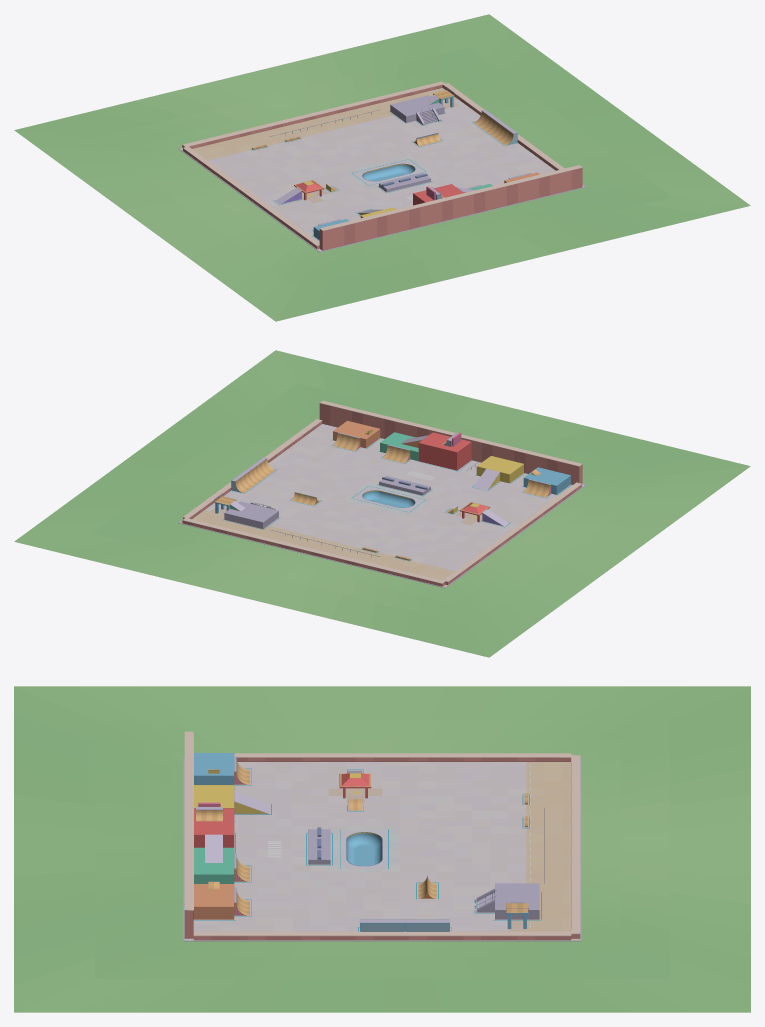
The model's file is beach.glb.
3 views of the same model, one above another, from view 1: azimuth 30°, elevation 25°; view 2: azimuth 150°, elevation 25°; view 3: azimuth 270°, elevation 25° (orthographic). The views are drawn at different scales.
Parts seen in each view (by area): view 1: park; view 2: park; view 3: park.
Boxes of the visible parts, x1,y1,x2,y2 form: park: [14, 14, 750, 321]; park: [14, 350, 750, 657]; park: [14, 686, 750, 1012].
Size of the model in its own units: 172 by 11.6 by 164.
